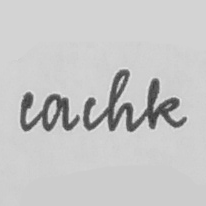a: (39, 91, 72, 135)
c: (16, 89, 35, 134), (78, 95, 100, 133)
h: (104, 66, 136, 135)
k: (143, 75, 188, 131)
